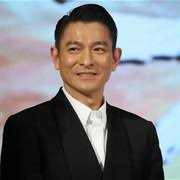person: (49, 3, 122, 96)
